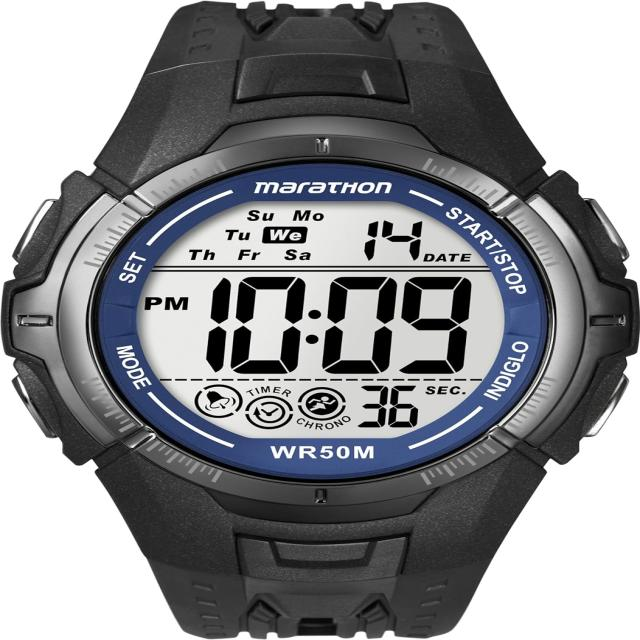watch: (17, 159, 629, 513)
